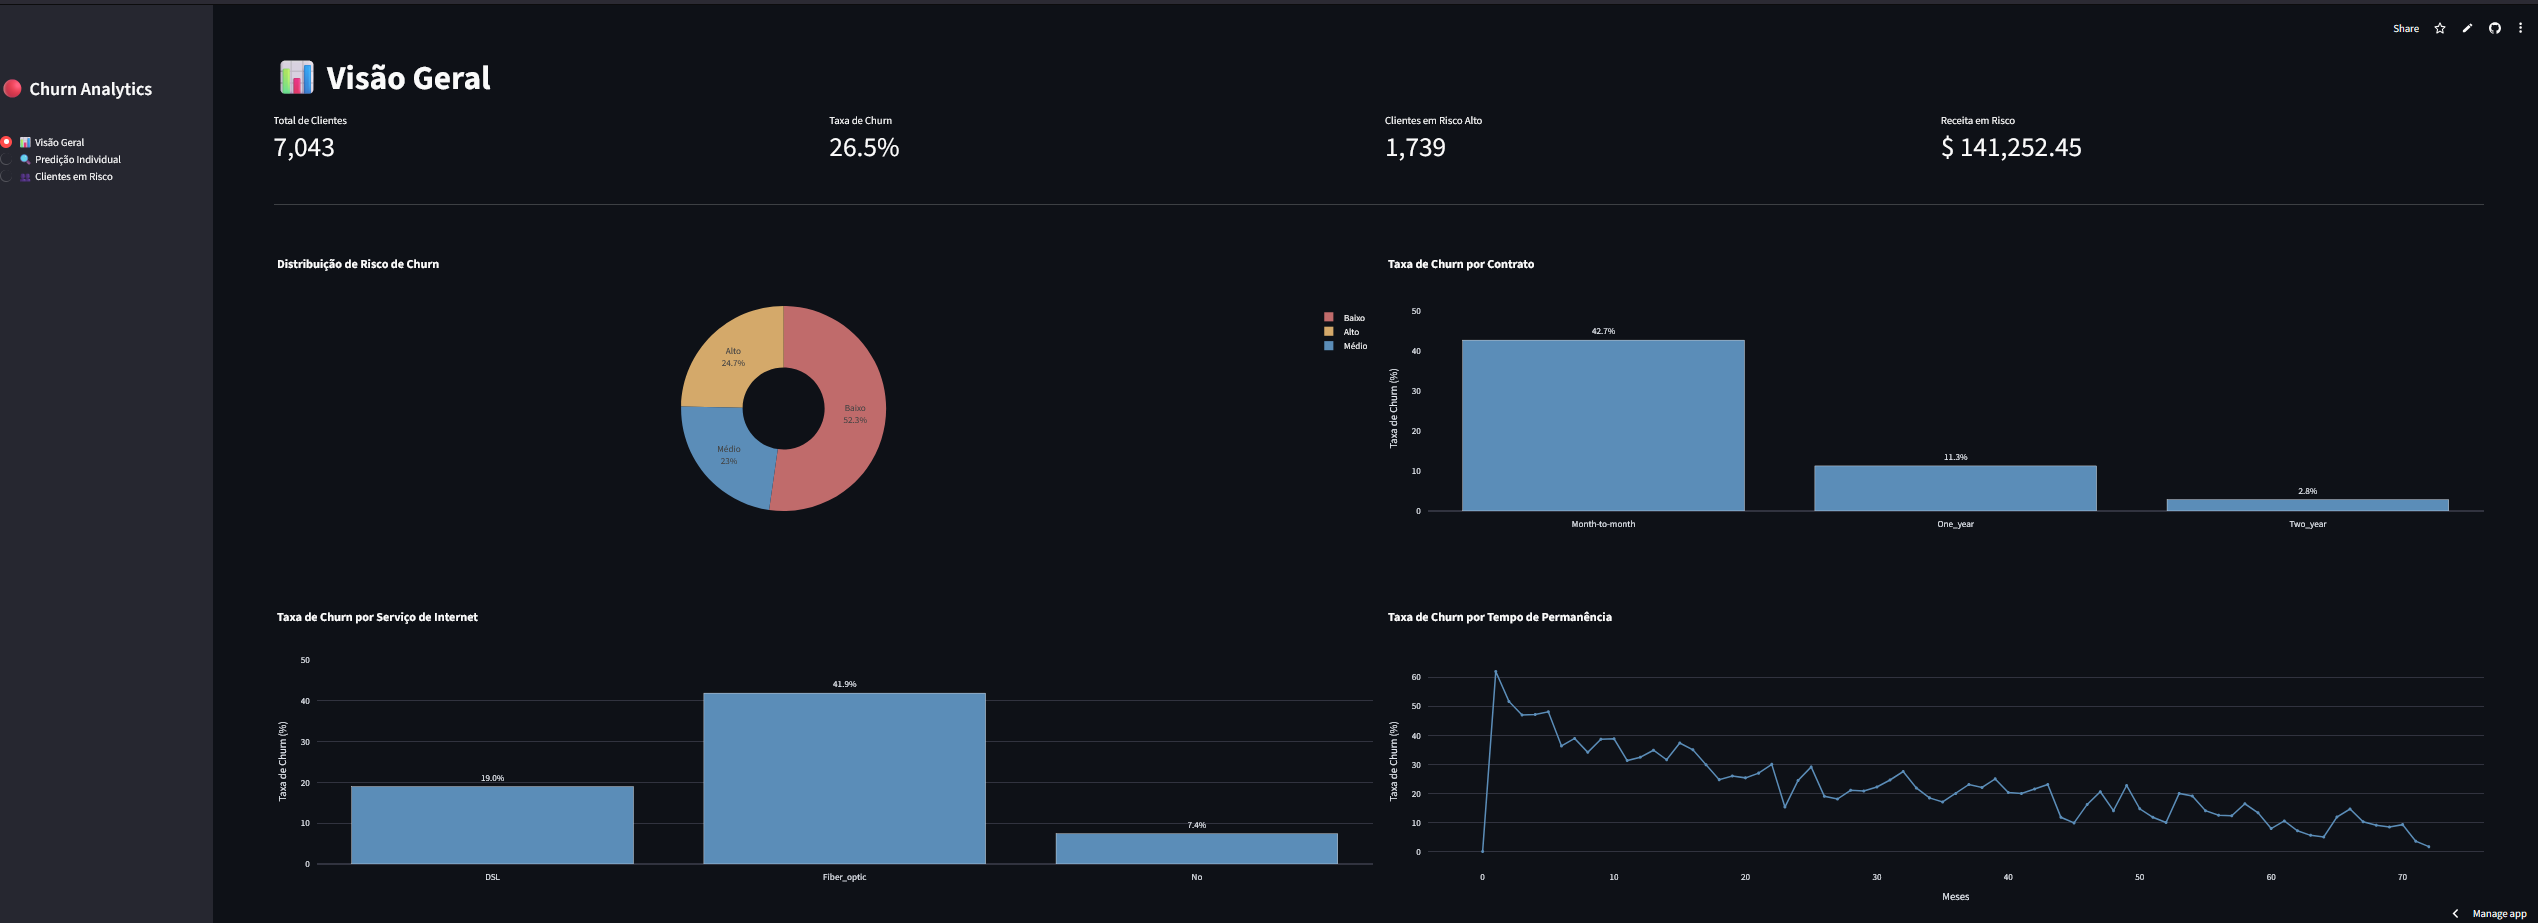

Layout of this report page (visuals, bound fields, positions):
{"tool":"powerbi","page":{"name":"Página 1","canvas":[1280,720],"ordinal":0},"visuals":[{"type":"card","fields":{"Values":["Count(churn_predictions.customerID)"]},"box":[50,151.2,92.5,37.5],"z":0},{"type":"card","fields":{"Values":["churn_predictions.Taxa de Churn"]},"box":[345,151.2,126.2,37.5],"z":1000},{"type":"card","fields":{"Values":["churn_predictions.Receita em Risco"]},"box":[935.1,151.8,171.1,37.4],"z":2000},{"type":"pieChart","fields":{"Category":["churn_predictions.risco"],"Y":["CountNonNull(churn_predictions.customerID)"]},"box":[49.4,242.2,359.1,194],"z":3000},{"type":"clusteredBarChart","fields":{"Category":["vw_bi_predictions.contrato"],"Y":["churn_predictions.Taxa de Churn"]},"box":[435,242.2,386.8,194],"z":4000},{"type":"clusteredBarChart","fields":{"Category":["churn_predictions.InternetService"],"Y":["churn_predictions.Taxa de Churn"]},"box":[821.8,242.2,401.3,194],"z":5000},{"type":"clusteredBarChart","fields":{"Category":["vw_bi_predictions.metodo_pagamento"],"Y":["churn_predictions.Taxa de Churn"]},"box":[37.4,490.4,591.7,194],"z":6000},{"type":"lineChart","fields":{"Category":["churn_predictions.tenure"],"Y":["churn_predictions.Taxa de Churn"]},"box":[639.9,490.4,583.2,184.4],"z":7000},{"type":"actionButton","title":"● Página 1 de 2","box":[1006.2,20.5,201.2,25.3],"z":8000},{"type":"card","fields":{"Values":["Medidas.Total Clientes Risco Alto"]},"box":[639.9,150.6,126.2,37.5],"z":9000}]}

Visuals, with their boxes on the page's 1280x720 design canvas (x1, y1, x2, y2). These are canvas units, not pixel positions in the 2538x923 screenshot, which may show the page scaled, cropped or inside an application window:
card - Count(churn_predictions.customerID): rect(50, 151, 142, 189)
card - churn_predictions.Taxa de Churn: rect(345, 151, 471, 189)
card - churn_predictions.Receita em Risco: rect(935, 152, 1106, 189)
pieChart - churn_predictions.risco x CountNonNull(churn_predictions.customerID): rect(49, 242, 408, 436)
clusteredBarChart - vw_bi_predictions.contrato x churn_predictions.Taxa de Churn: rect(435, 242, 822, 436)
clusteredBarChart - churn_predictions.InternetService x churn_predictions.Taxa de Churn: rect(822, 242, 1223, 436)
clusteredBarChart - vw_bi_predictions.metodo_pagamento x churn_predictions.Taxa de Churn: rect(37, 490, 629, 684)
lineChart - churn_predictions.tenure x churn_predictions.Taxa de Churn: rect(640, 490, 1223, 675)
"● Página 1 de 2" actionButton: rect(1006, 20, 1207, 46)
card - Medidas.Total Clientes Risco Alto: rect(640, 151, 766, 188)
